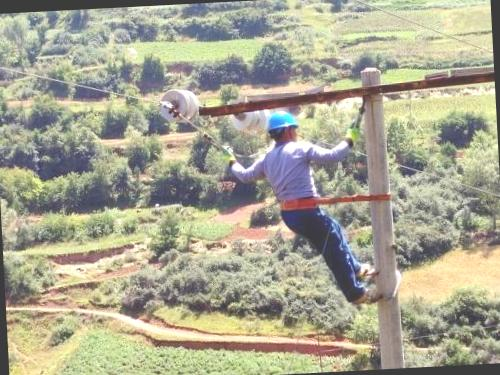helmet: (262, 108, 300, 140)
no_vest: (265, 138, 323, 209)
person: (261, 104, 365, 309)
